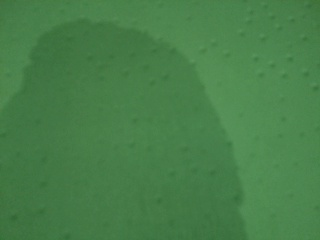Water_detected: (31, 62, 212, 240)
